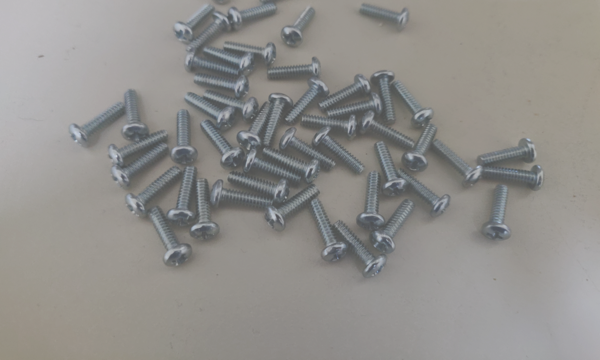shortscrew: (332, 221, 388, 280), (125, 166, 183, 218), (397, 169, 452, 218), (265, 184, 321, 232), (279, 127, 337, 173), (431, 139, 484, 189), (149, 207, 193, 267), (111, 143, 170, 187), (69, 102, 125, 148), (309, 198, 349, 262), (312, 127, 366, 174), (370, 200, 415, 254), (242, 148, 304, 187), (358, 111, 415, 151), (200, 120, 244, 171), (109, 129, 168, 167), (358, 111, 415, 150), (262, 147, 321, 183), (285, 78, 330, 125), (228, 172, 290, 206), (391, 81, 435, 128), (183, 93, 237, 131), (319, 74, 371, 112), (210, 180, 274, 210), (375, 141, 409, 197), (186, 12, 231, 54), (190, 179, 220, 241), (402, 123, 439, 173), (237, 101, 273, 152), (478, 138, 537, 168), (203, 90, 259, 121), (482, 164, 545, 191), (357, 172, 386, 230), (174, 3, 215, 44), (264, 94, 295, 148), (184, 50, 241, 79), (483, 186, 512, 242), (359, 2, 410, 33), (300, 113, 358, 140), (171, 109, 198, 166), (281, 7, 316, 48), (194, 73, 249, 99), (122, 90, 149, 142), (223, 41, 277, 67), (371, 70, 396, 124), (229, 3, 277, 31), (327, 94, 383, 118), (268, 57, 322, 81), (260, 0, 306, 5), (210, 0, 232, 5)
